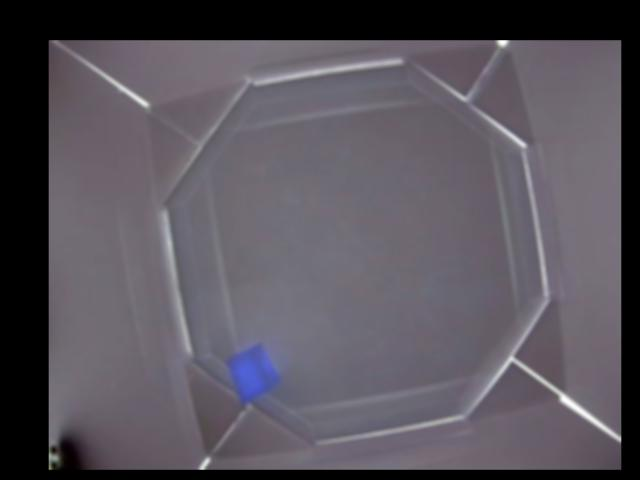Potato: (230, 341, 279, 401)
